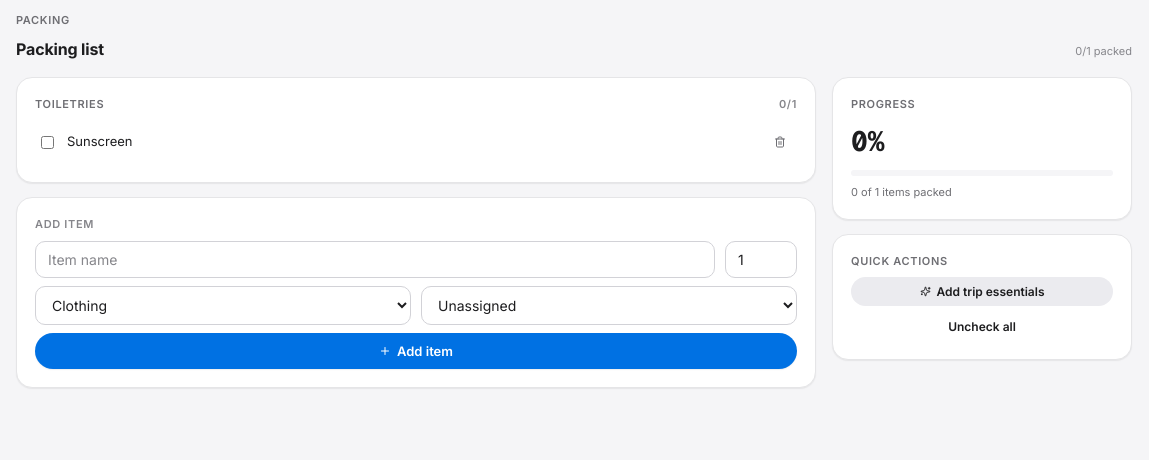
Scenario: PackingView › removes an item from the list
This screenshot has width=1149, height=460.
Expected: the text "Sunscreen" is shown, [67,133,132,149]
Click the button titled "Remove item". click: click(780, 142)
box: [765,127,795,157]
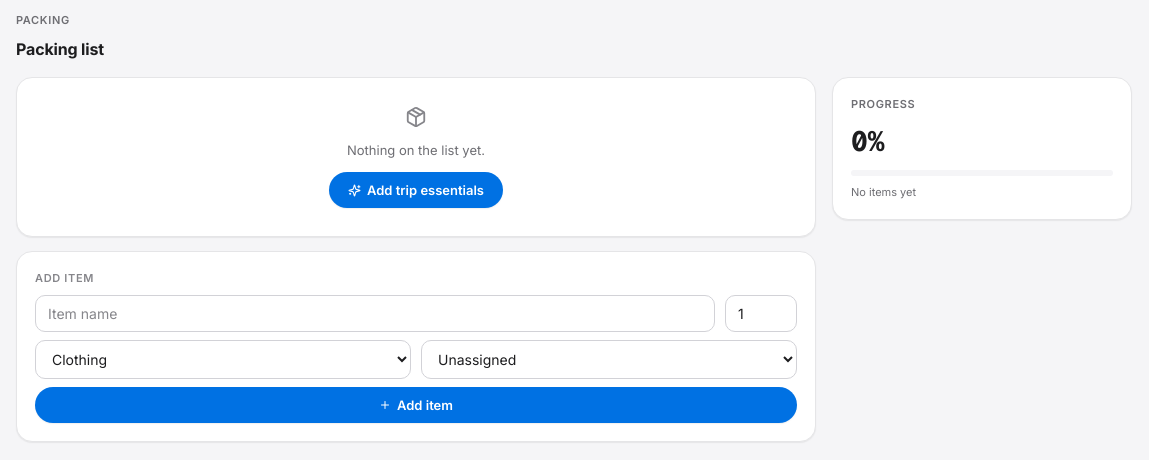
Expected: the text "Sunscreen" is gone
Expected: the text "Nothing on the list yet." is shown, [347,142,485,158]
